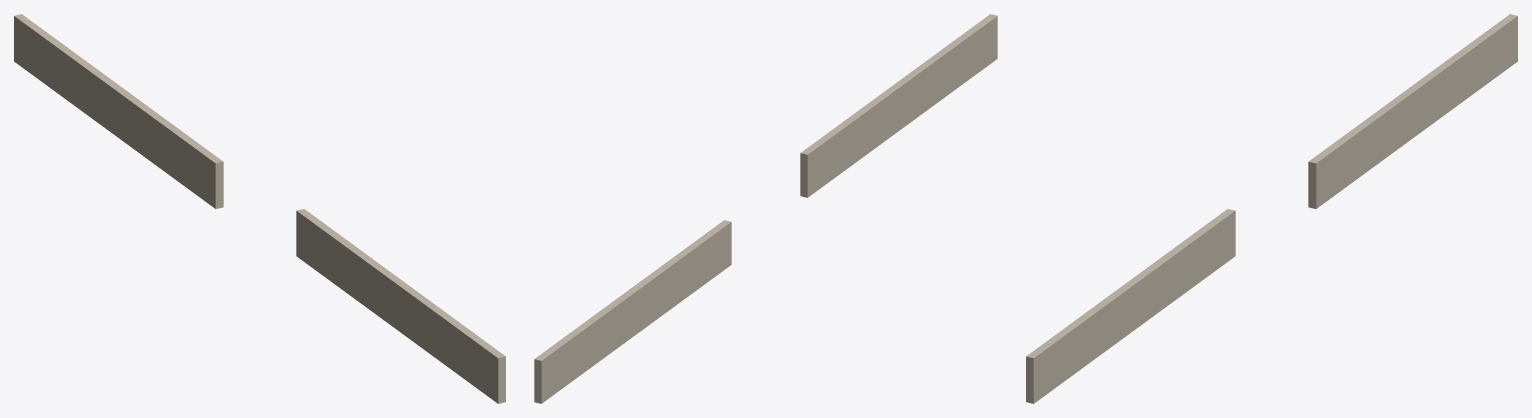
File: cell_-2_-7_full.gltf
The picture shows the model from 3 angles, left to right: view 1: azimuth 30°, elevation 25°; view 2: azimuth 150°, elevation 25°; view 3: azimuth 330°, elevation 25°; orthographic projection. The views are drawn at different scales.
Visible parts, largest first — view 1: COMPOUND_EAST_WALL_E; view 2: COMPOUND_EAST_WALL_E; view 3: COMPOUND_EAST_WALL_E.
Part boxes in pixels (bbox=[...]): COMPOUND_EAST_WALL_E: bbox=[14, 14, 505, 403]; COMPOUND_EAST_WALL_E: bbox=[534, 14, 997, 403]; COMPOUND_EAST_WALL_E: bbox=[1026, 14, 1517, 403].
Bounding box in the file's own units: 0.2197 × 1.58 × 24.
